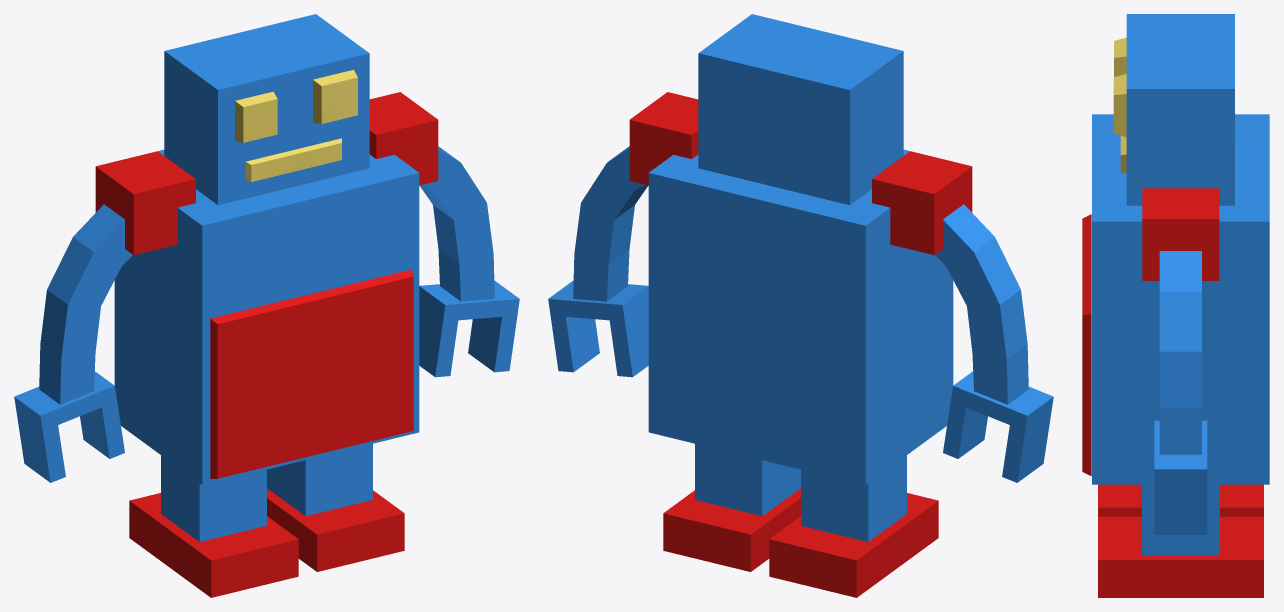
Rendered from Robot.fbx.
3 renders of one model, left to right at view 1: azimuth 30°, elevation 25°; view 2: azimuth 150°, elevation 25°; view 3: azimuth 270°, elevation 25°, orthographic.
Parts seen in each view (by area): view 1: Robot; view 2: Robot; view 3: Robot.
Boxes of the visible parts, x1=… form: Robot: x1=14, y1=14, x2=519, y2=597; Robot: x1=548, y1=14, x2=1053, y2=597; Robot: x1=1082, y1=14, x2=1269, y2=597.
Size of the model in its own units: 0.8715 by 0.8552 by 0.2911.
Materials: 1 (1 with a texture image).
